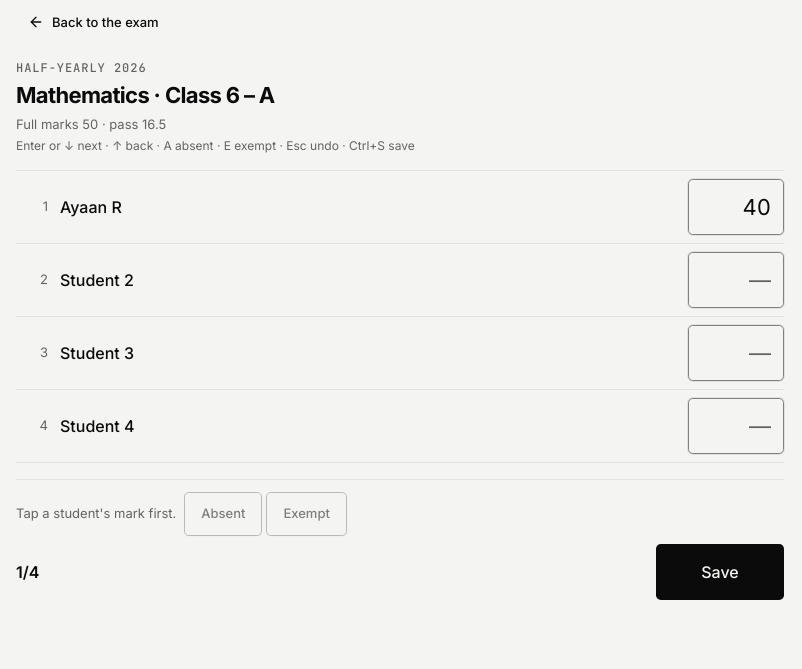
it: MarksEntry › Esc after a CONFLICT takes the other person's value
Replace the text in the field named "Ayaan R" with "45" at {"x": 736, "y": 206}, box [688,178,784,234]
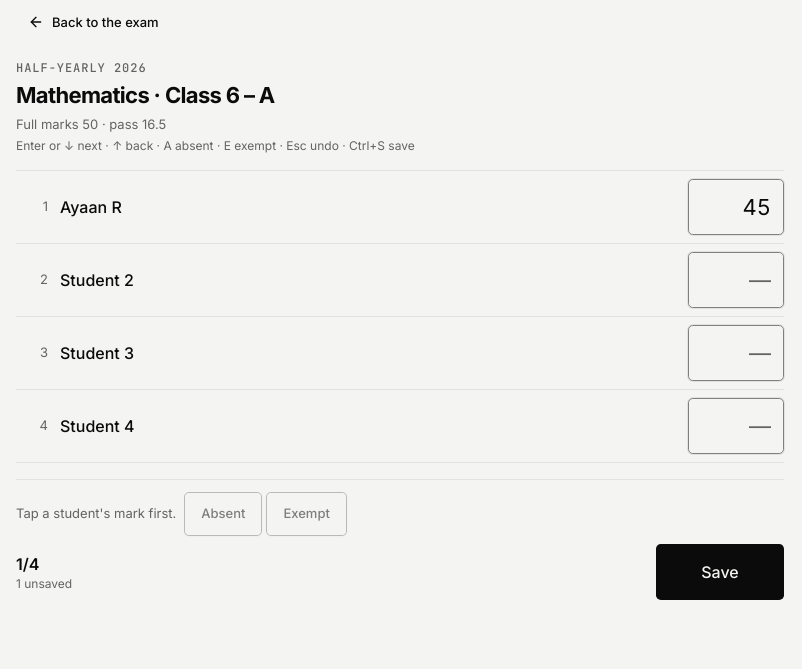
Click the button "Save" at {"x": 720, "y": 572}, box [656,544,784,600]
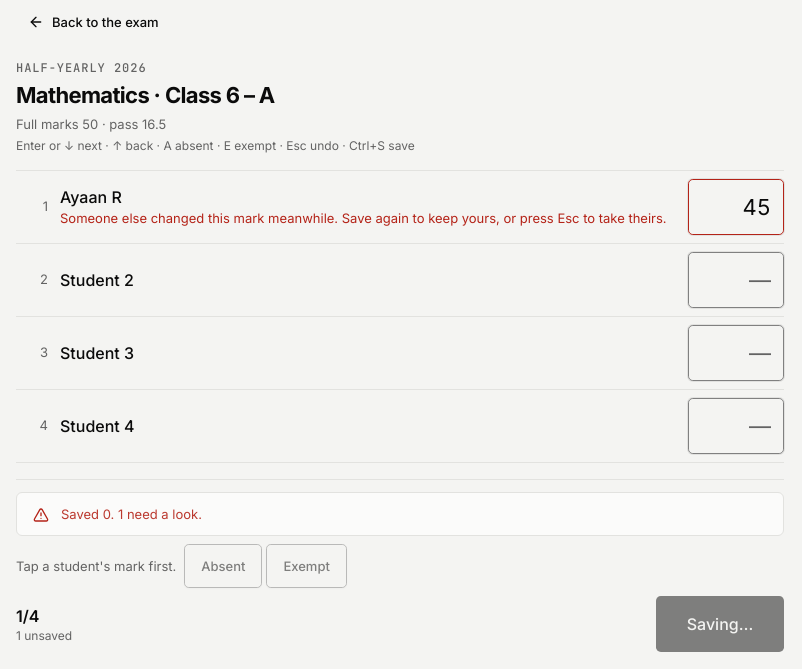
Press Escape in the field named "Ayaan R", box [688,178,784,234]
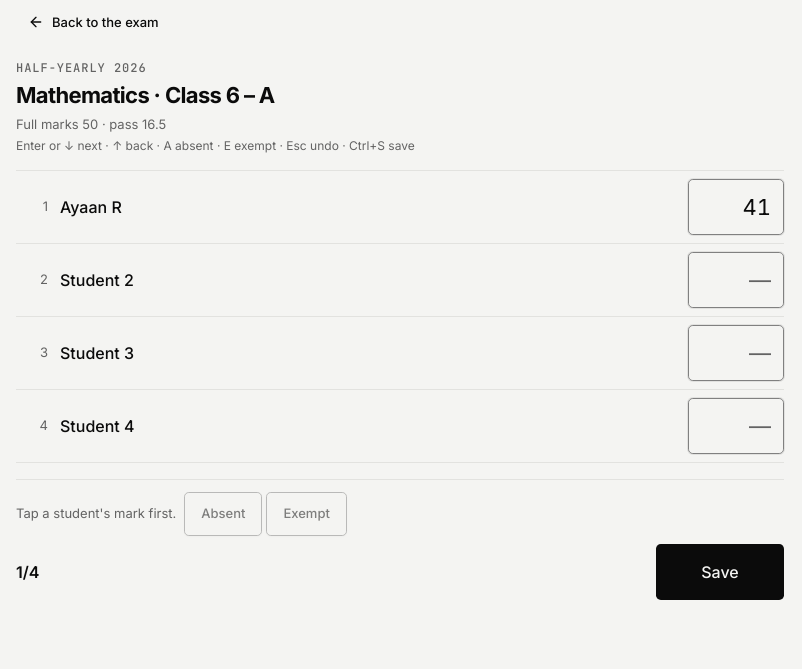
Expected: the field named "Ayaan R" holds "41", [688,178,784,234]
